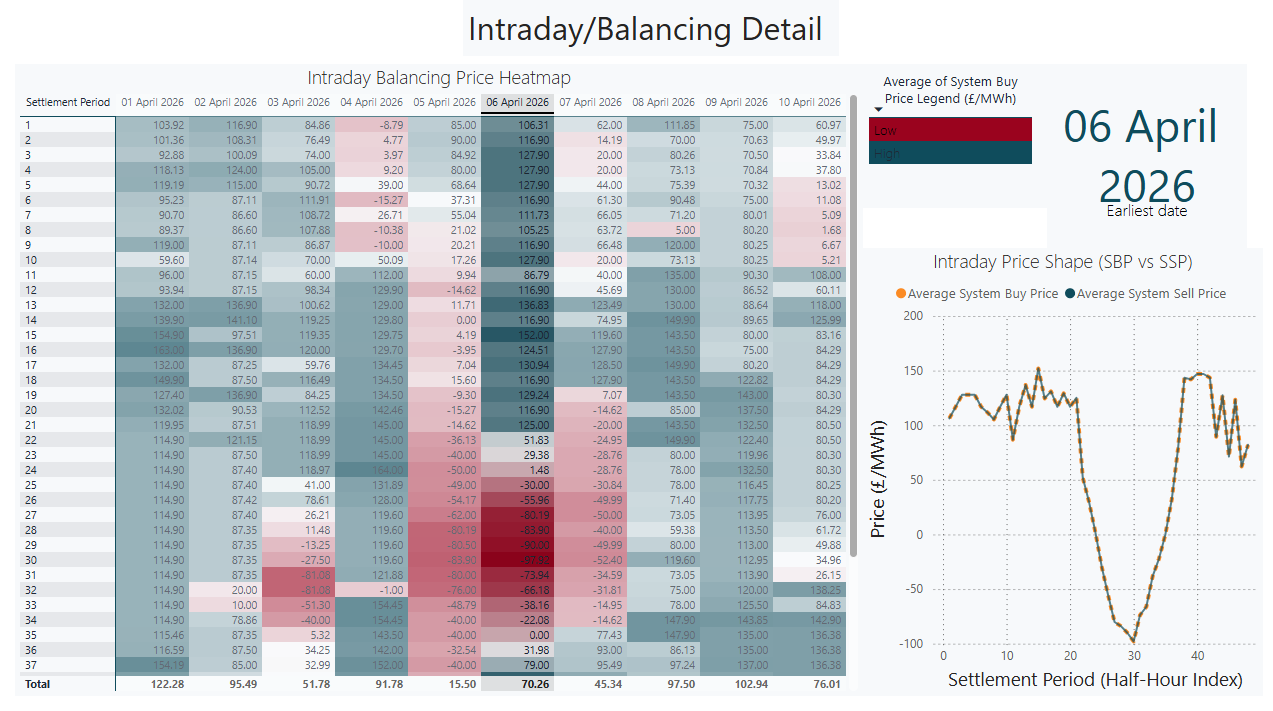

The dashboard page shown, as its layout file describes it:
{"tool":"powerbi","page":{"name":"Intraday/Balancing Detail","canvas":[1280,720],"ordinal":1},"visuals":[{"type":"pivotTable","title":"Intraday Balancing Price Heatmap","fields":{"Values":["Avg(fact_power_market.sbp_gbp_mwh)"],"Rows":["fact_power_market.settlement_period"],"Columns":["fact_power_market.date"]},"box":[16,64,848,632],"z":1000},{"type":"card","fields":{"Values":["Min(fact_power_market.date)"]},"box":[1048,64,200,184],"z":1000},{"type":"textbox","box":[464,0,376,56],"z":2000},{"type":"lineChart","title":"Intraday Price Shape (SBP vs SSP)","fields":{"Category":["fact_power_market.settlement_period"],"Y":["fact_power_market.Avg SBP","fact_power_market.Avg SSP"]},"box":[864,248,400,448],"z":3001},{"type":"tableEx","fields":{"Values":["IntraPrice Colour Legend.Label"]},"box":[864,64,184,144],"z":4002}]}

Visuals, with their boxes in screenshot pixels (x1, y1, x2, y2), scaled from the page's 1280x720 canvas onto the 1273x711 screenshot:
"Intraday Balancing Price Heatmap" pivotTable: [left=16, top=63, right=859, bottom=687]
card - Min(fact_power_market.date): [left=1042, top=63, right=1241, bottom=245]
textbox: [left=461, top=0, right=835, bottom=55]
"Intraday Price Shape (SBP vs SSP)" lineChart: [left=859, top=245, right=1257, bottom=687]
tableEx - IntraPrice Colour Legend.Label: [left=859, top=63, right=1042, bottom=205]
